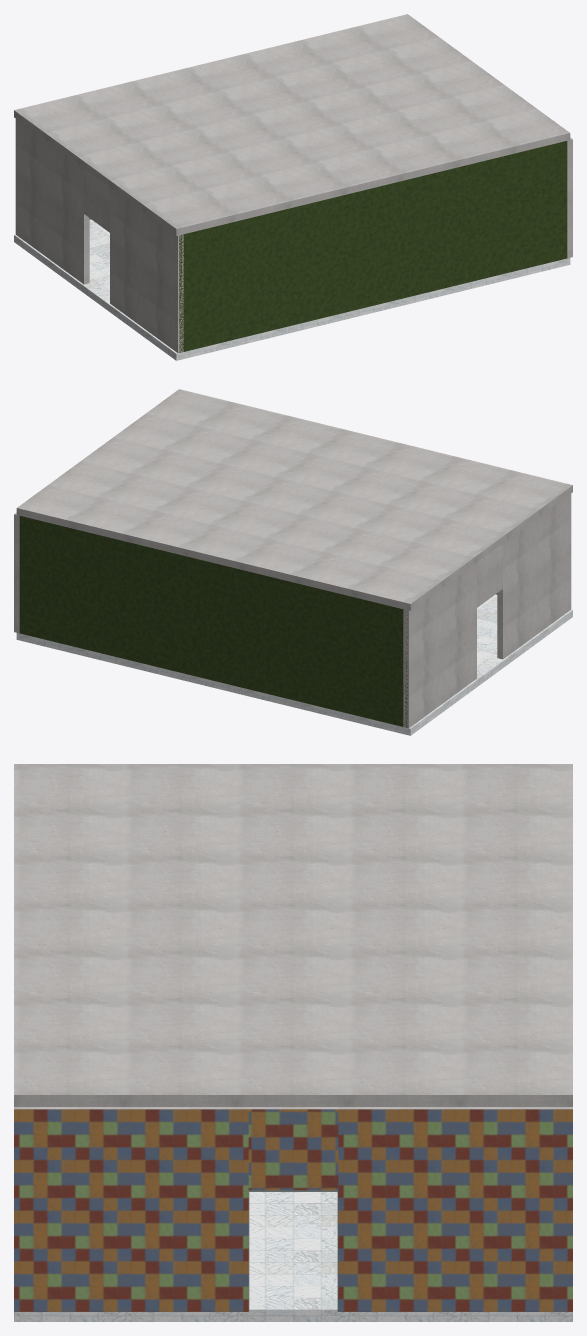
Rendered from SILENT_Room_02_Structure.fbx.
3 views of the same model, one above another, from view 1: azimuth 30°, elevation 25°; view 2: azimuth 150°, elevation 25°; view 3: azimuth 270°, elevation 25° (orthographic). The views are drawn at different scales.
Visible parts, largest first — view 1: Room_02_B_Structure, Ceiling.008; view 2: Room_02_B_Structure, Ceiling.008; view 3: Ceiling.008, Room_02_B_Structure.
Boxes of the visible parts, left/top/right/bottom form: Room_02_B_Structure: left=14, top=119, right=572, bottom=360; Ceiling.008: left=14, top=14, right=570, bottom=235; Room_02_B_Structure: left=14, top=494, right=572, bottom=735; Ceiling.008: left=16, top=389, right=572, bottom=610; Ceiling.008: left=14, top=764, right=572, bottom=1106; Room_02_B_Structure: left=14, top=1107, right=572, bottom=1321.
Size of the model in its own units: 14.1 by 4.48 by 10.
Materials: 8 (4 with a texture image).
